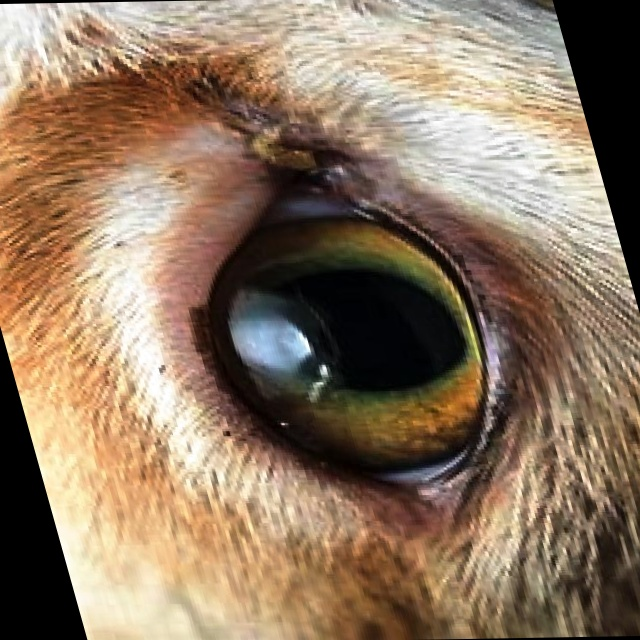eye_infection: (143, 143, 543, 514)
